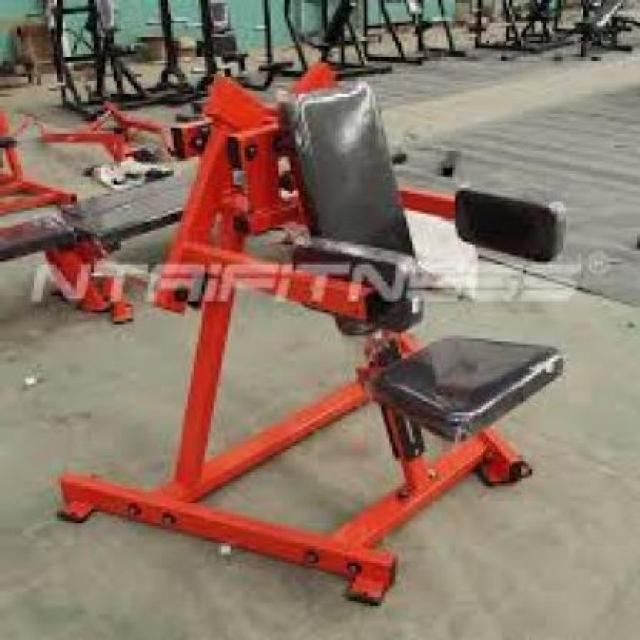lateral raises machine: (157, 62, 569, 612)
